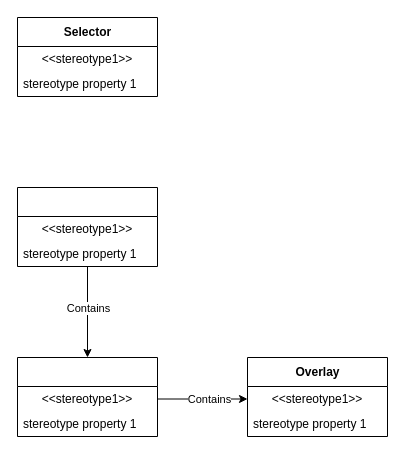
Image size: 405x454. Some labels were removed from this diagram. The shapes that lost their labels are listed below. From the top down, each one's box as (x1, y1, x2, y2) in pixels, then its label:
(16, 186, 158, 266): Setting
(16, 356, 158, 436): Chapter
